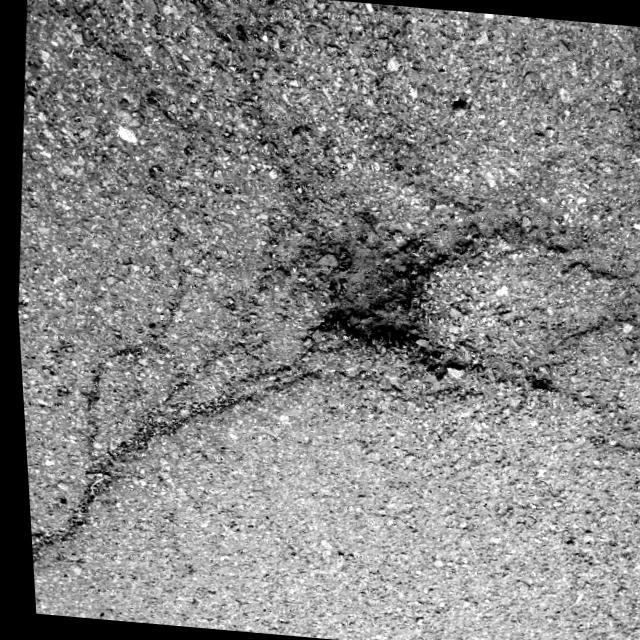pathole: (314, 195, 433, 334), (330, 294, 418, 360)
